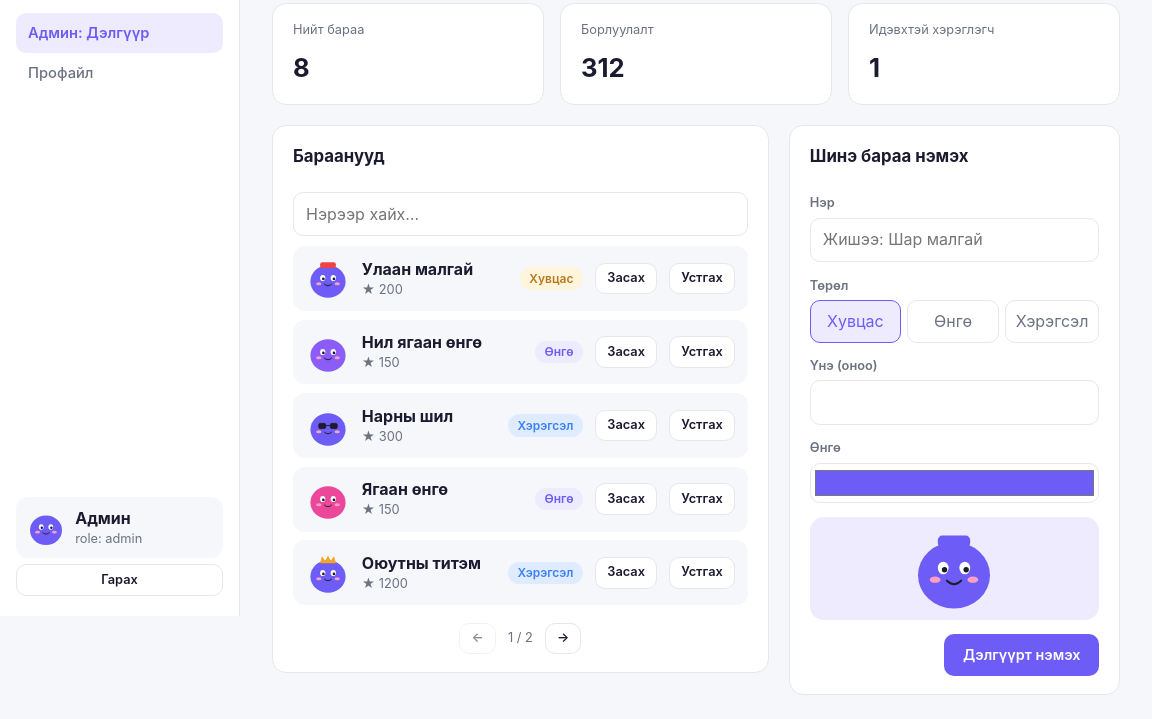
Test case: shop, profile, admin › админ жагсаалтын хуудаслалт
(page scrolled)
Expected: the text with test id "page-info" reads "1 / 2", [508, 629, 533, 648]
Click the button with test id "page-next": (563, 639) [545, 623, 581, 654]
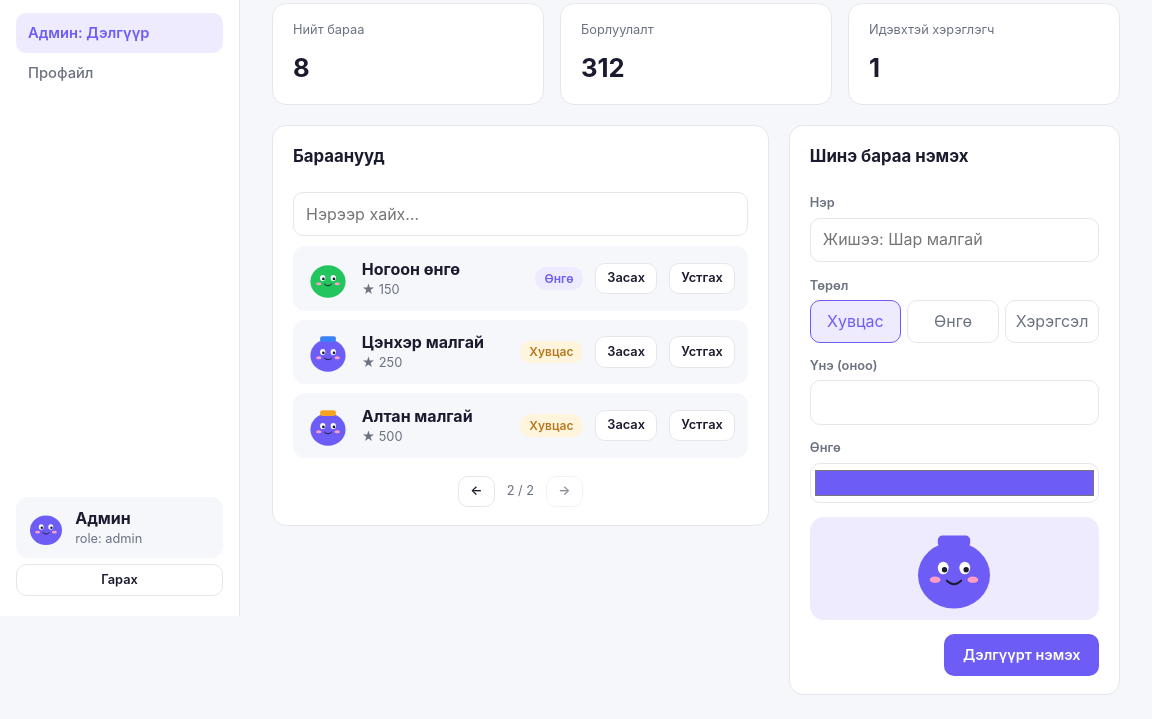
Expected: the text with test id "page-info" reads "2 / 2", [507, 482, 534, 501]
